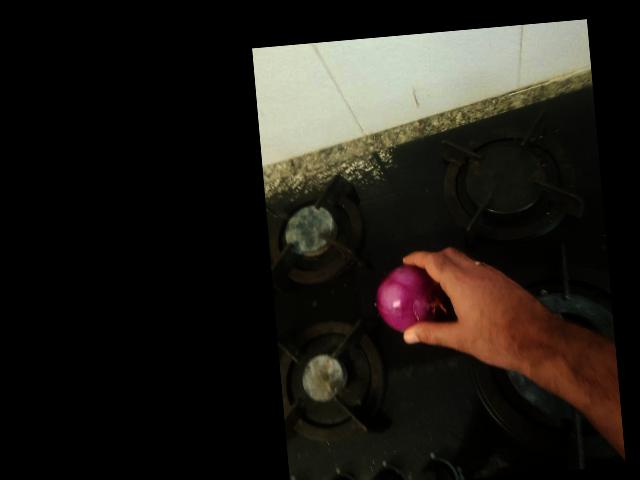onion: (301, 142, 368, 209)
